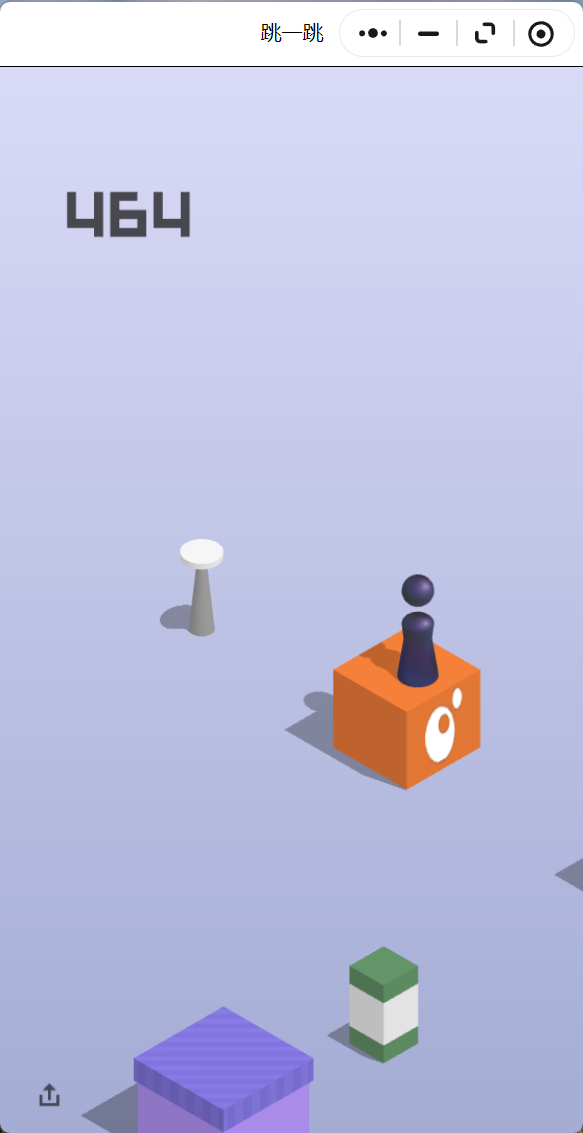piece: (402, 574, 434, 682)
target: (180, 538, 223, 564)
